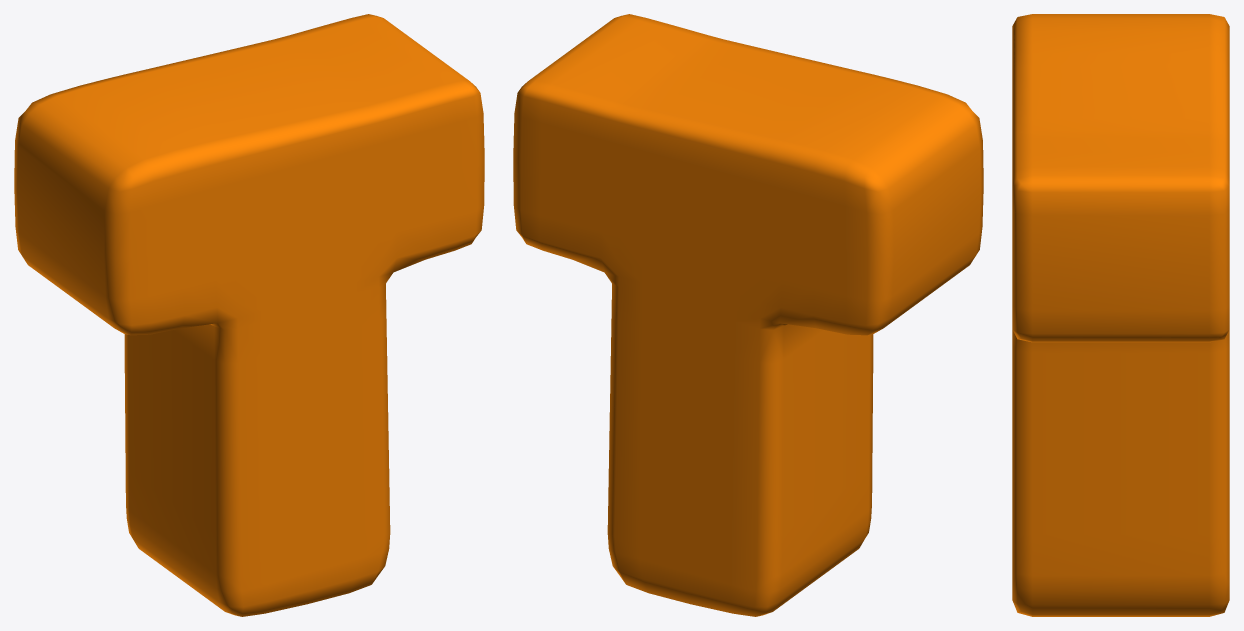
3 views of the same model, side by side, from view 1: azimuth 30°, elevation 25°; view 2: azimuth 150°, elevation 25°; view 3: azimuth 270°, elevation 25° (orthographic). The views are drawn at different scales.
Visible parts, largest first — view 1: LETTER_T; view 2: LETTER_T; view 3: LETTER_T.
Boxes of the visible parts, bbox=[...] form: LETTER_T: bbox=[14, 14, 484, 616]; LETTER_T: bbox=[513, 14, 983, 616]; LETTER_T: bbox=[1012, 14, 1229, 616].
Size of the model in its own units: 0.8147 by 1 by 0.3972.
